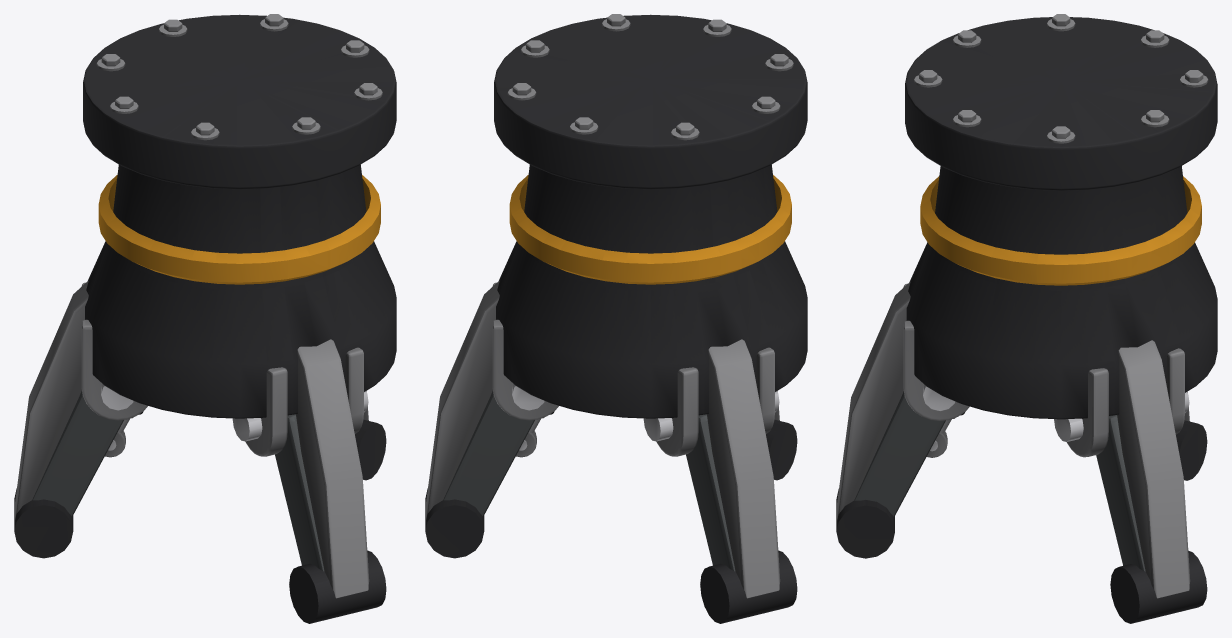
File: bastion.grapple.glb
3 views of the same model, side by side, from view 1: azimuth 30°, elevation 25°; view 2: azimuth 150°, elevation 25°; view 3: azimuth 270°, elevation 25° (orthographic).
Bounding box in the file's own units: 0.8767 × 1.06 × 0.78.
